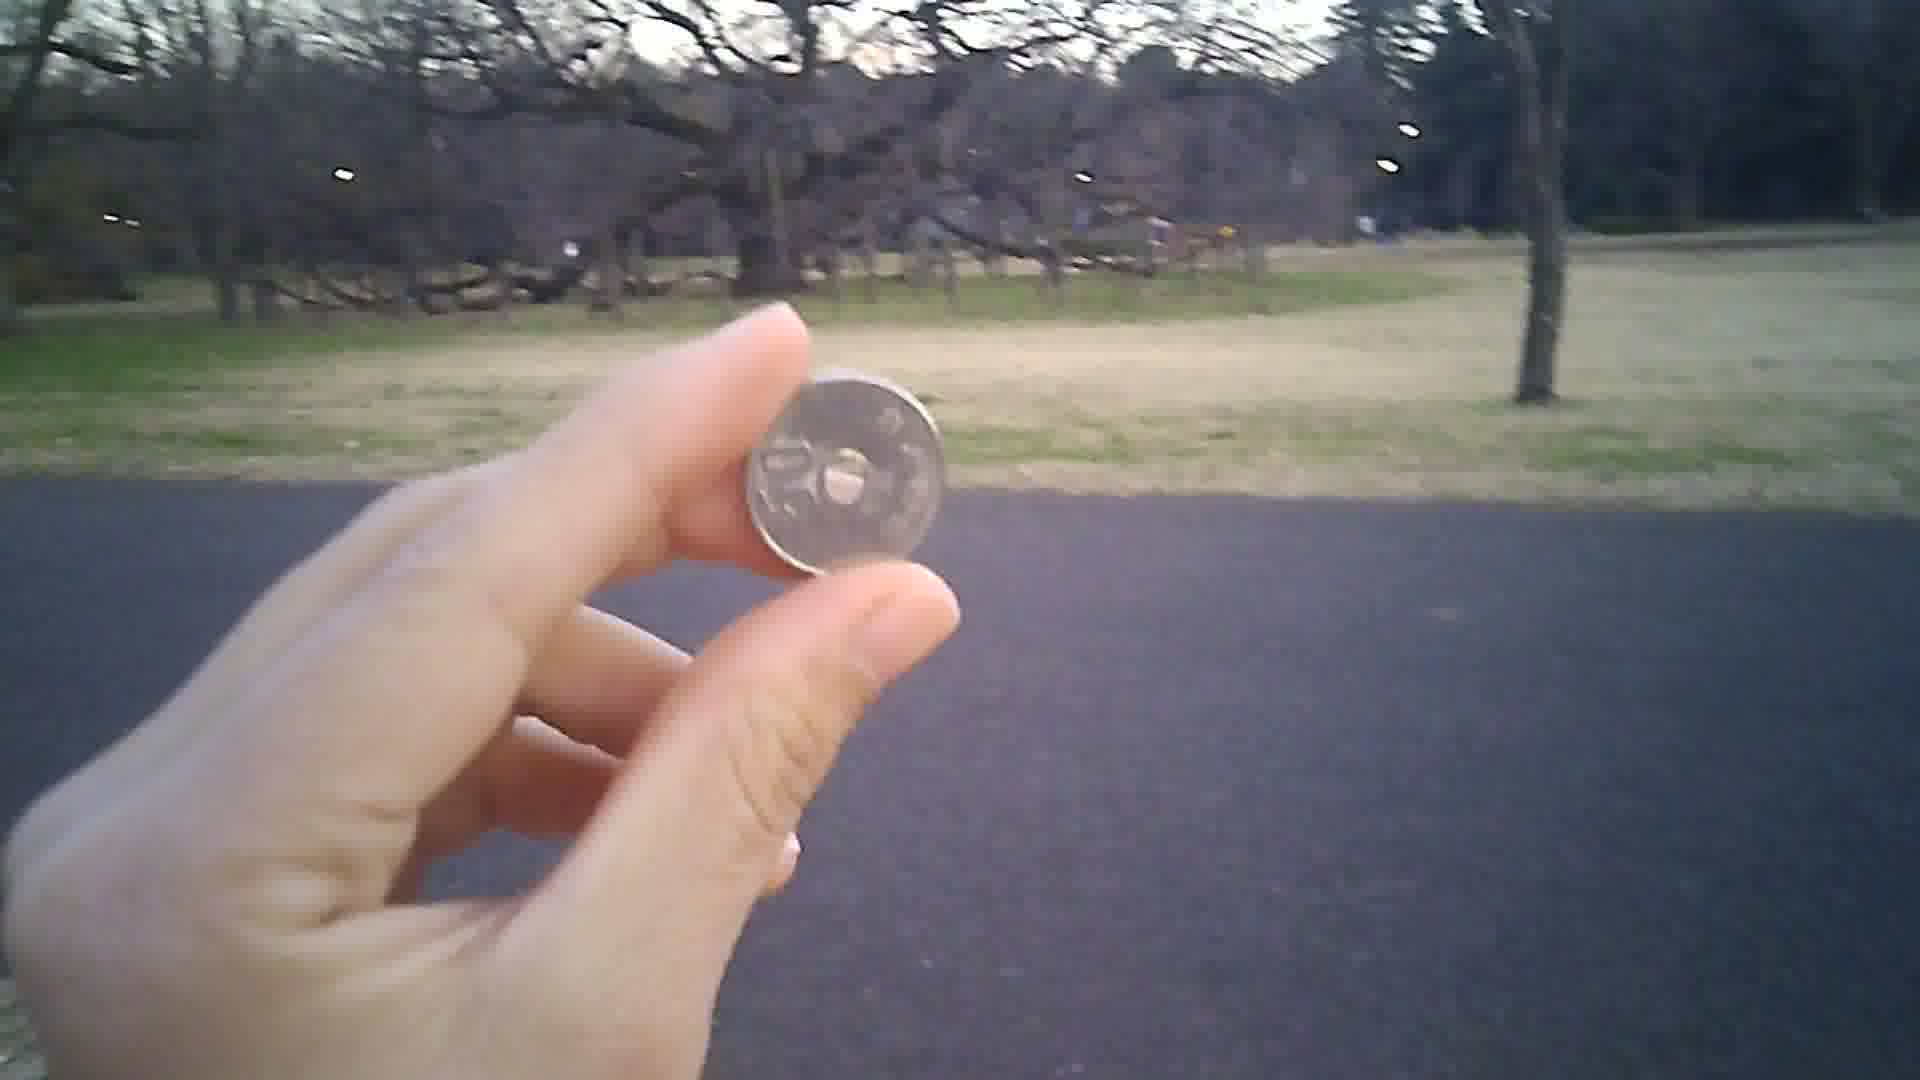50 Yen: (741, 372, 951, 580)
